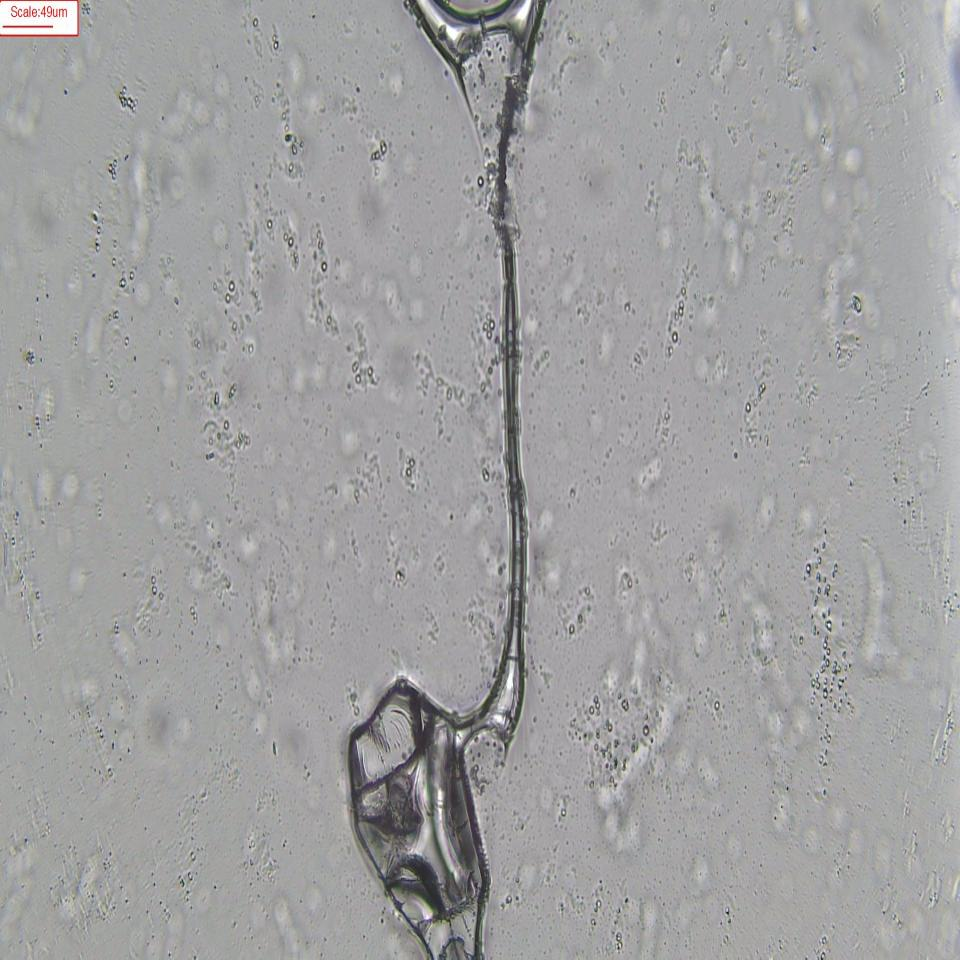crystal: (334, 675, 492, 960)
